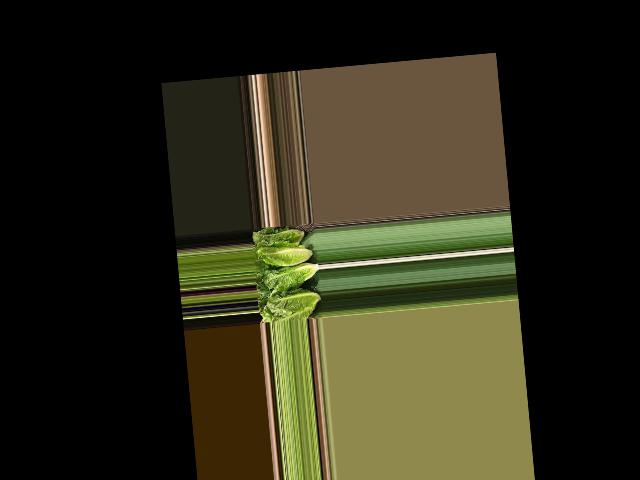lettuce: (251, 228, 303, 248)
